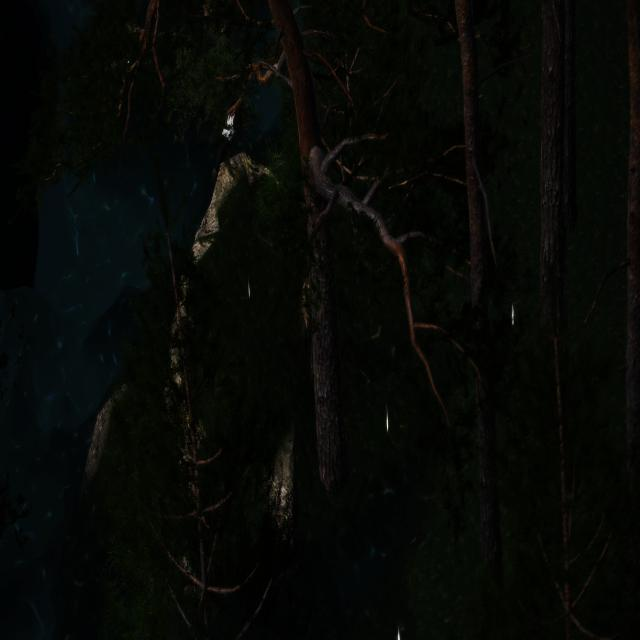Human: (186, 95, 246, 168)
